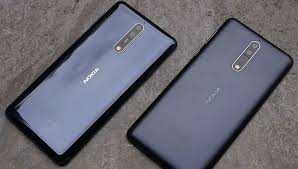nokia: (1, 1, 183, 164)
